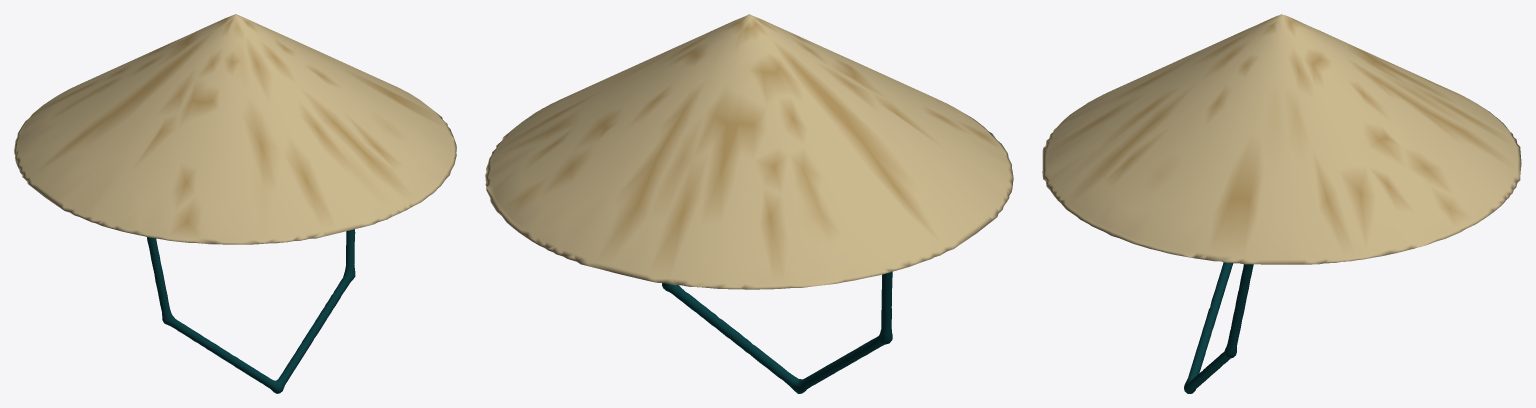
Rendered from nonla.glb.
3 renders of one model, left to right at view 1: azimuth 30°, elevation 25°; view 2: azimuth 150°, elevation 25°; view 3: azimuth 270°, elevation 25°, orthographic. The views are drawn at different scales.
Visible parts, largest first — view 1: Non_La, Quai_Non; view 2: Non_La, Quai_Non; view 3: Non_La, Quai_Non.
Part boxes in pixels (x1,y1,x2,y2): Non_La: (14, 14, 456, 244); Quai_Non: (147, 229, 355, 393); Non_La: (485, 14, 1013, 289); Quai_Non: (662, 271, 892, 393); Non_La: (1042, 14, 1521, 264); Quai_Non: (1184, 262, 1253, 393).
Bounding box in the file's own units: 0.3757 × 0.3285 × 0.3757.
